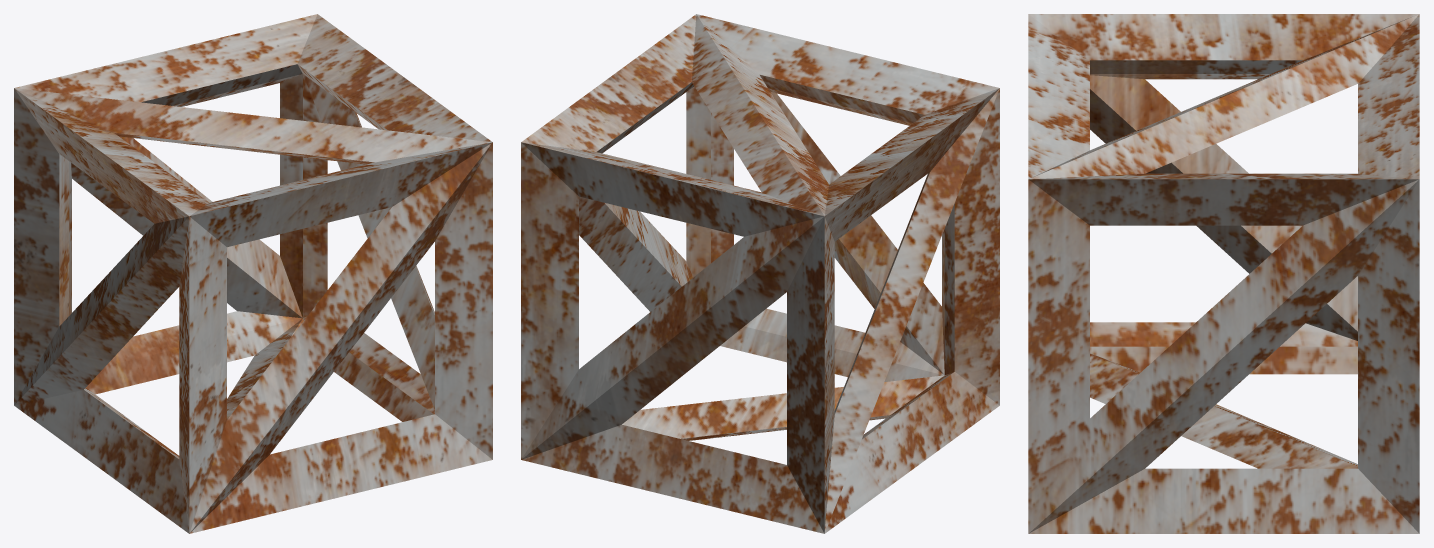
The model's file is Pilierdelabasesousmarine.glb.
3 renders of one model, left to right at view 1: azimuth 30°, elevation 25°; view 2: azimuth 150°, elevation 25°; view 3: azimuth 270°, elevation 25°, orthographic. The views are drawn at different scales.
Visible parts, largest first — view 1: Cube; view 2: Cube; view 3: Cube.
Part boxes in pixels (bbox=[...]): Cube: bbox=[14, 14, 492, 533]; Cube: bbox=[521, 14, 999, 533]; Cube: bbox=[1028, 14, 1419, 533].
Size of the model in its own units: 2.26 by 2.26 by 2.26.
1 material, 1 textured.
